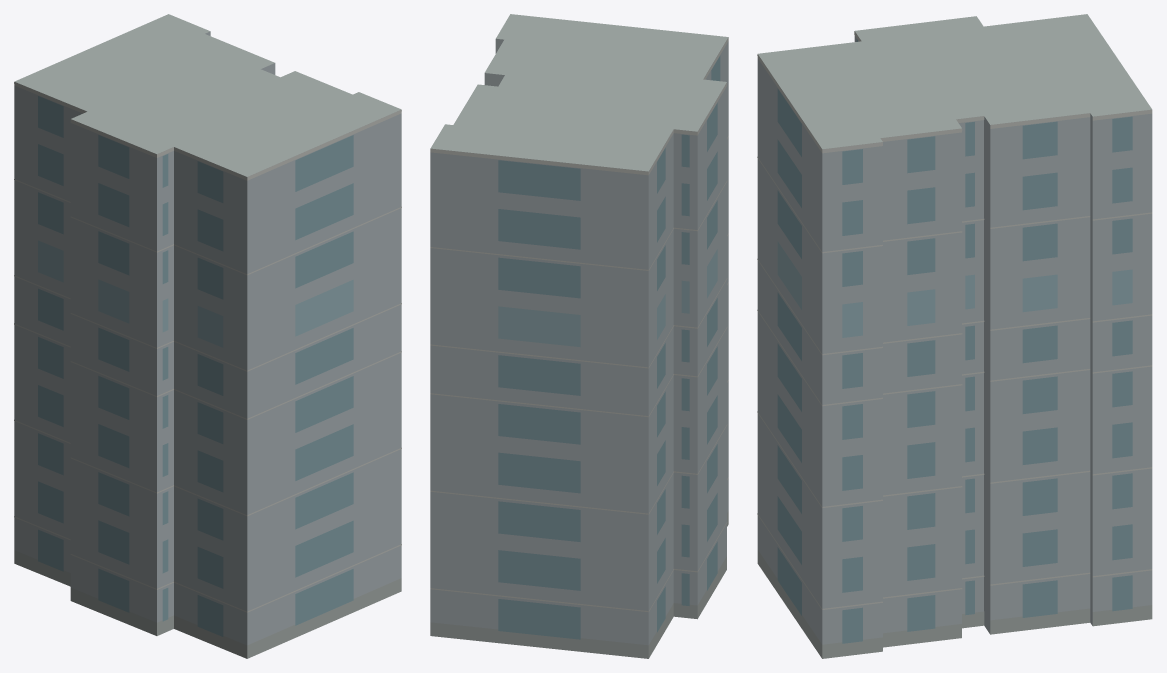
Rendered from survey-upis-32908274.glb.
3 renders of one model, left to right at view 1: azimuth 30°, elevation 25°; view 2: azimuth 150°, elevation 25°; view 3: azimuth 270°, elevation 25°, orthographic. The views are drawn at different scales.
Visible parts, largest first — view 1: survey-upis-32908274.tmp; view 2: survey-upis-32908274.tmp; view 3: survey-upis-32908274.tmp.
Boxes of the visible parts, bbox=[...] form: survey-upis-32908274.tmp: bbox=[14, 14, 401, 658]; survey-upis-32908274.tmp: bbox=[430, 14, 728, 658]; survey-upis-32908274.tmp: bbox=[757, 14, 1152, 658].
Size of the model in its own units: 17.39 by 30.5 by 21.44.
